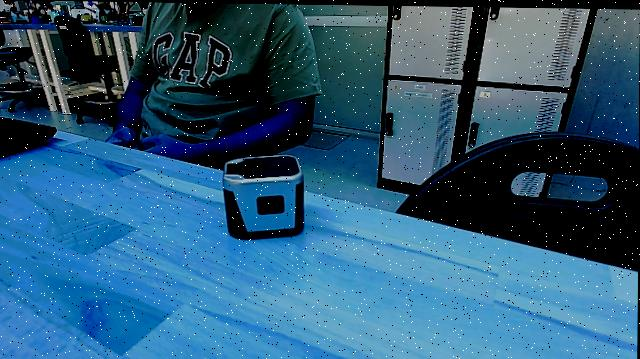adapter: (214, 151, 312, 243)
